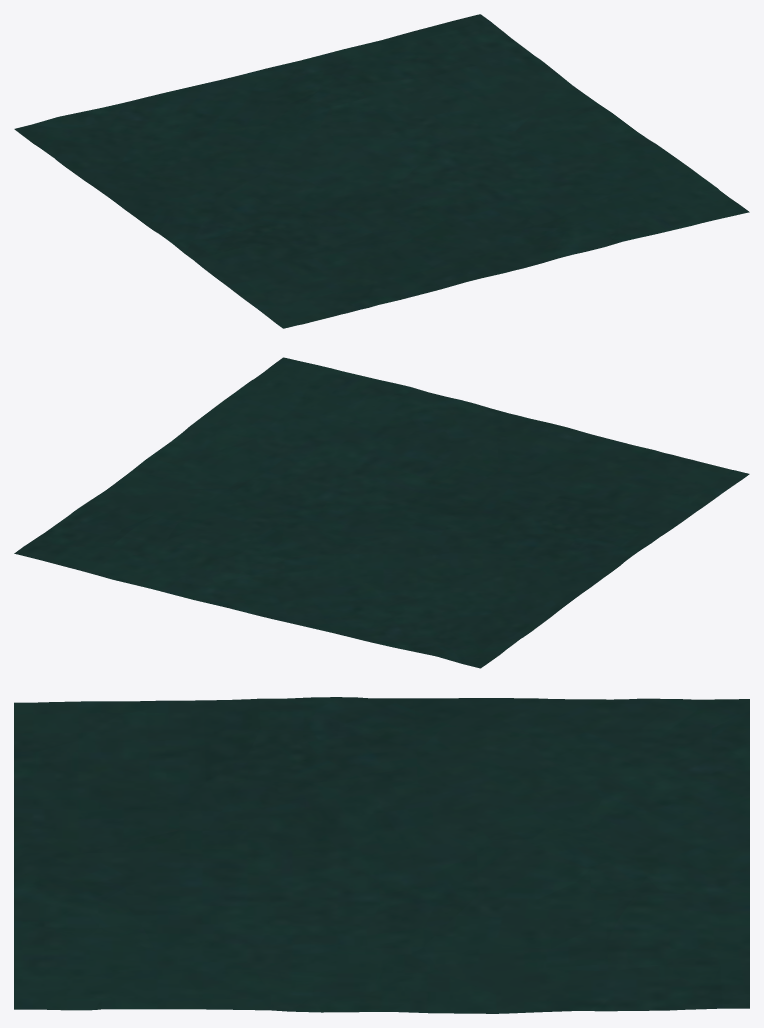
3 views of the same model, one above another, from view 1: azimuth 30°, elevation 25°; view 2: azimuth 150°, elevation 25°; view 3: azimuth 270°, elevation 25° (orthographic). The views are drawn at different scales.
Bounding box in the file's own units: 52.22 × 0.6033 × 52.22.
2 materials, 2 textured.
